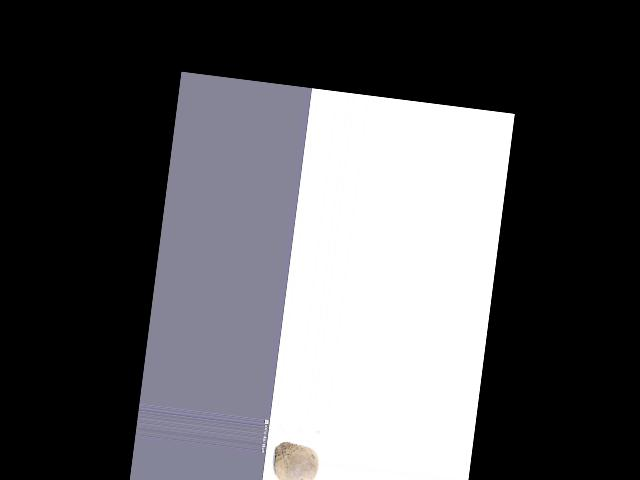beet: (270, 441, 320, 480)
